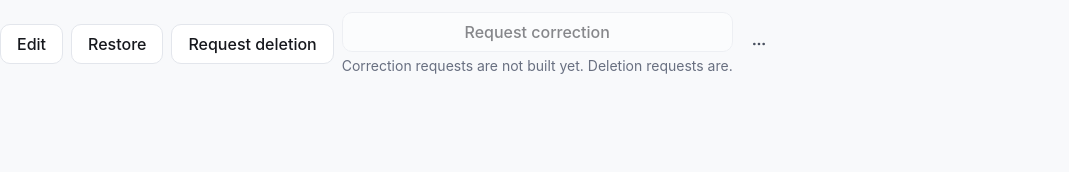
Scenario: archive and restore › reports a failed restore in the page
Click the button "Restore" at (117, 44), box [71,24,163,64]
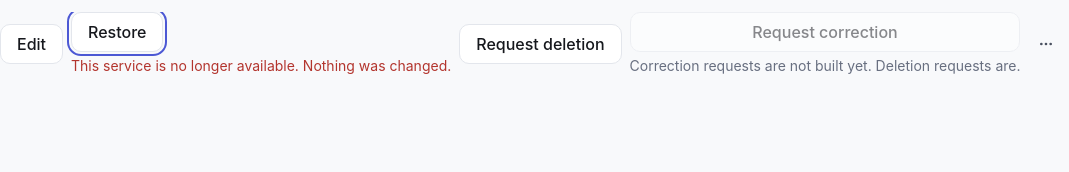
Check: the message reads "This service is no longer available. Nothing was changed.", box [71,57,451,74]
